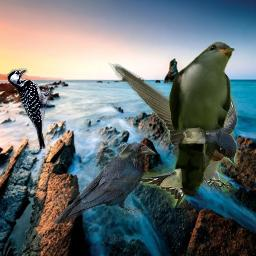Crow: (53, 142, 157, 226)
Cuckoo: (168, 41, 235, 197)
Swallow: (100, 62, 238, 208)
Woodpecker: (7, 67, 50, 149)
